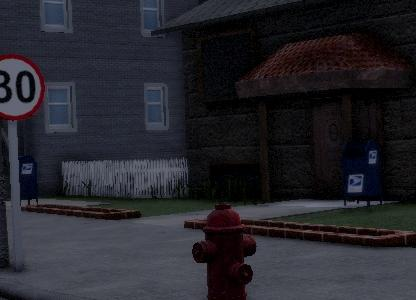Speed_30: (0, 54, 46, 123)
